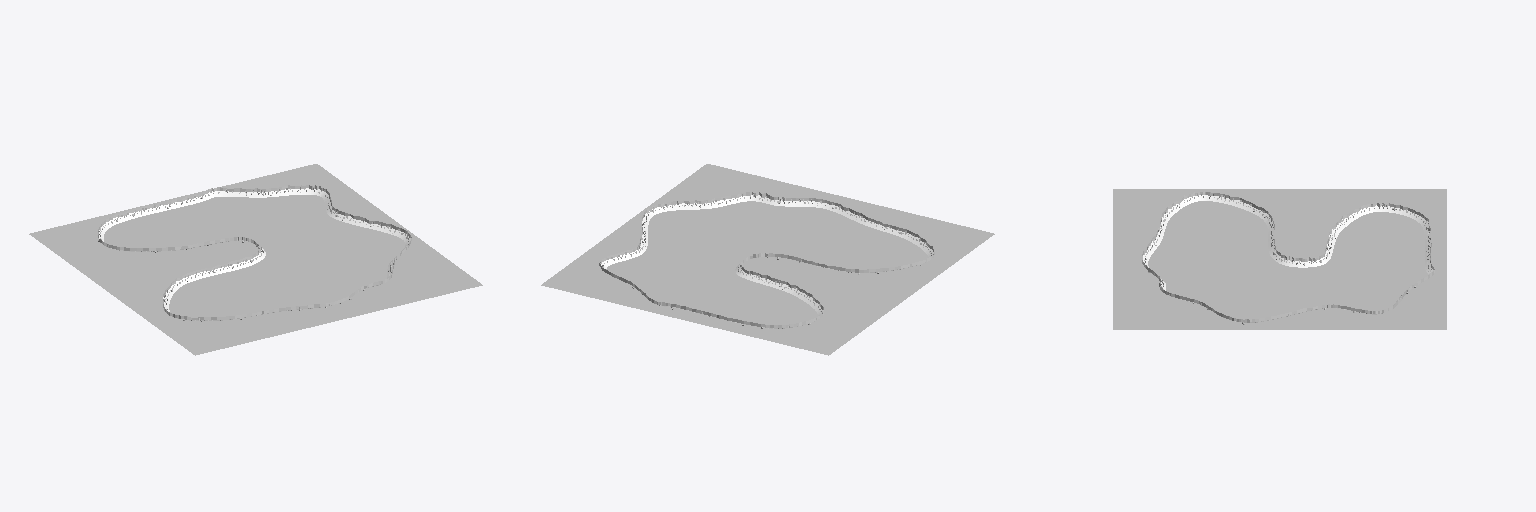
The picture shows the model from 3 angles: view 1: azimuth 30°, elevation 25°; view 2: azimuth 150°, elevation 25°; view 3: azimuth 270°, elevation 25°; orthographic projection.
Visible parts, largest first — view 1: Plane, Wall_08, Wall_09, Wall_00, Wall_04, Wall_07; view 2: Plane, Wall_01, Wall_02, Wall_06, Wall_03; view 3: Plane, Wall_03, Wall_07.
Part boxes in pixels (x1,y1,x2,y2): Plane: (29,164,482,355); Wall_08: (154,187,259,212); Wall_09: (260,185,337,217); Wall_00: (334,210,411,250); Wall_04: (163,261,234,305); Wall_07: (98,204,156,248); Plane: (541,164,994,355); Wall_01: (677,192,785,209); Wall_02: (786,198,881,229); Wall_06: (747,271,823,314); Wall_03: (880,223,934,266); Plane: (1113,189,1446,329); Wall_03: (1160,191,1229,232); Wall_07: (1366,202,1430,246).
Bounding box in the file's own units: 1400 × 32.99 × 1400.